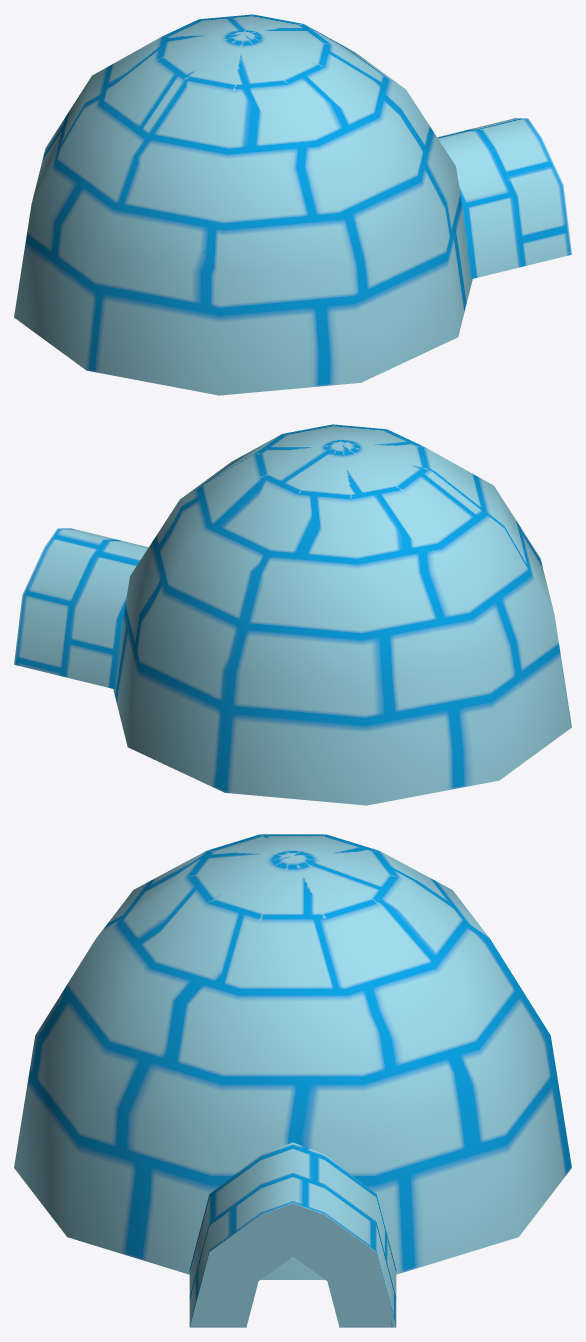
3 views of the same model, one above another, from view 1: azimuth 30°, elevation 25°; view 2: azimuth 150°, elevation 25°; view 3: azimuth 270°, elevation 25° (orthographic). The views are drawn at different scales.
Parts seen in each view (by area): view 1: домик, вход; view 2: домик, вход; view 3: домик, вход.
Boxes of the visible parts, bbox=[...] form: домик: bbox=[14, 14, 472, 395]; вход: bbox=[437, 118, 571, 279]; домик: bbox=[113, 424, 571, 805]; вход: bbox=[14, 528, 148, 689]; домик: bbox=[14, 834, 571, 1279]; вход: bbox=[189, 1142, 396, 1327].
Bounding box in the file's own units: 335 × 176 × 285.
